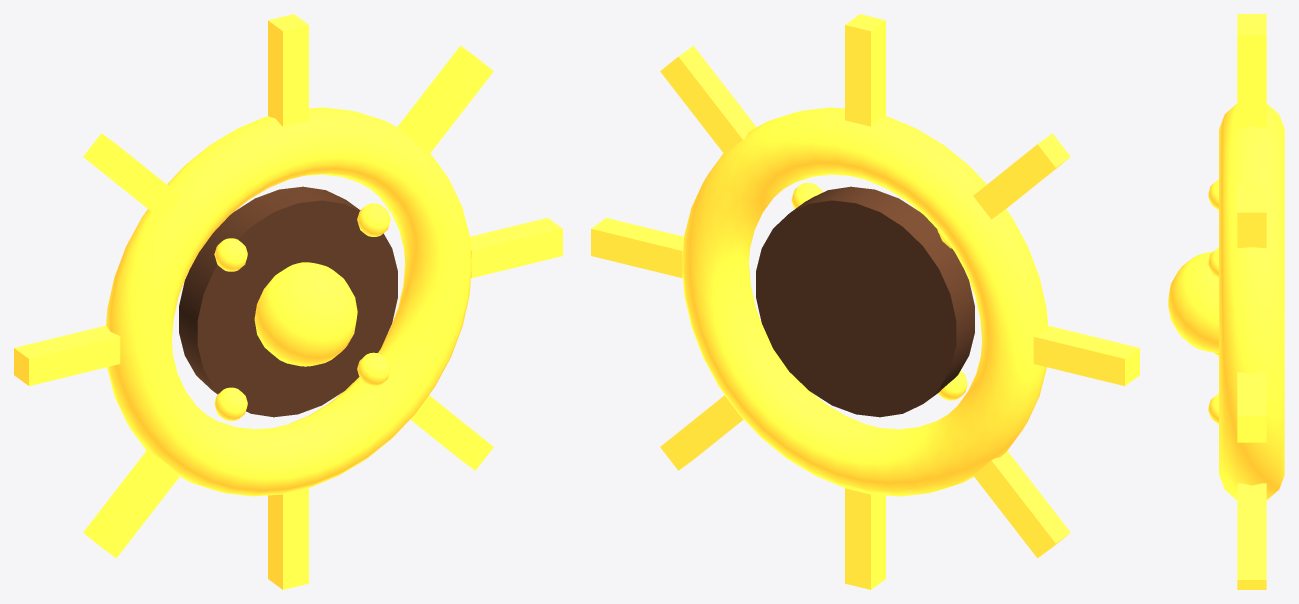
The model's file is sun_seal.glb.
3 views of the same model, side by side, from view 1: azimuth 30°, elevation 25°; view 2: azimuth 150°, elevation 25°; view 3: azimuth 270°, elevation 25° (orthographic). The views are drawn at different scales.
Parts seen in each view (by area): view 1: sun_seal; view 2: sun_seal; view 3: sun_seal.
Part boxes in pixels (x1,y1,x2,y2): sun_seal: (14,14,562,589); sun_seal: (591,14,1139,589); sun_seal: (1168,14,1284,589).
Bounding box in the file's own units: 1.64 × 1.64 × 0.3174.
